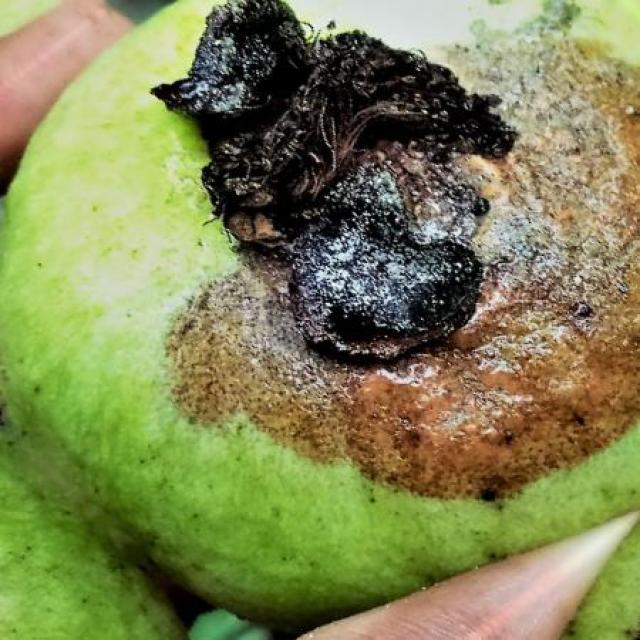Styler and Root: (0, 0, 640, 632), (290, 0, 522, 47)
